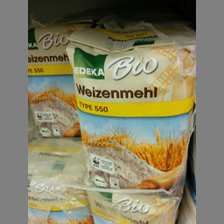flour: (65, 26, 194, 189)
